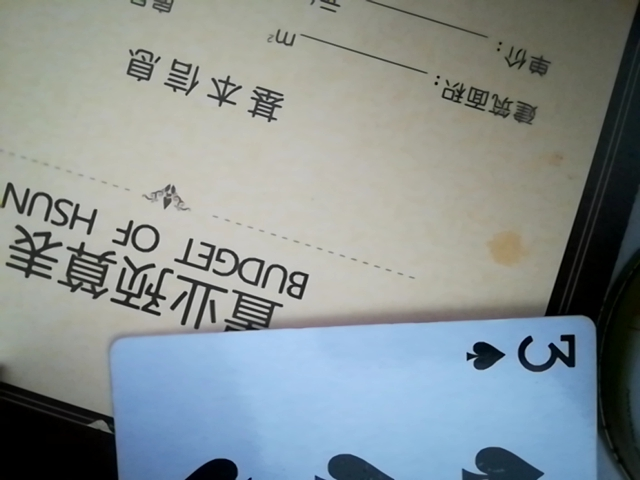ht 3: (92, 310, 605, 480)
